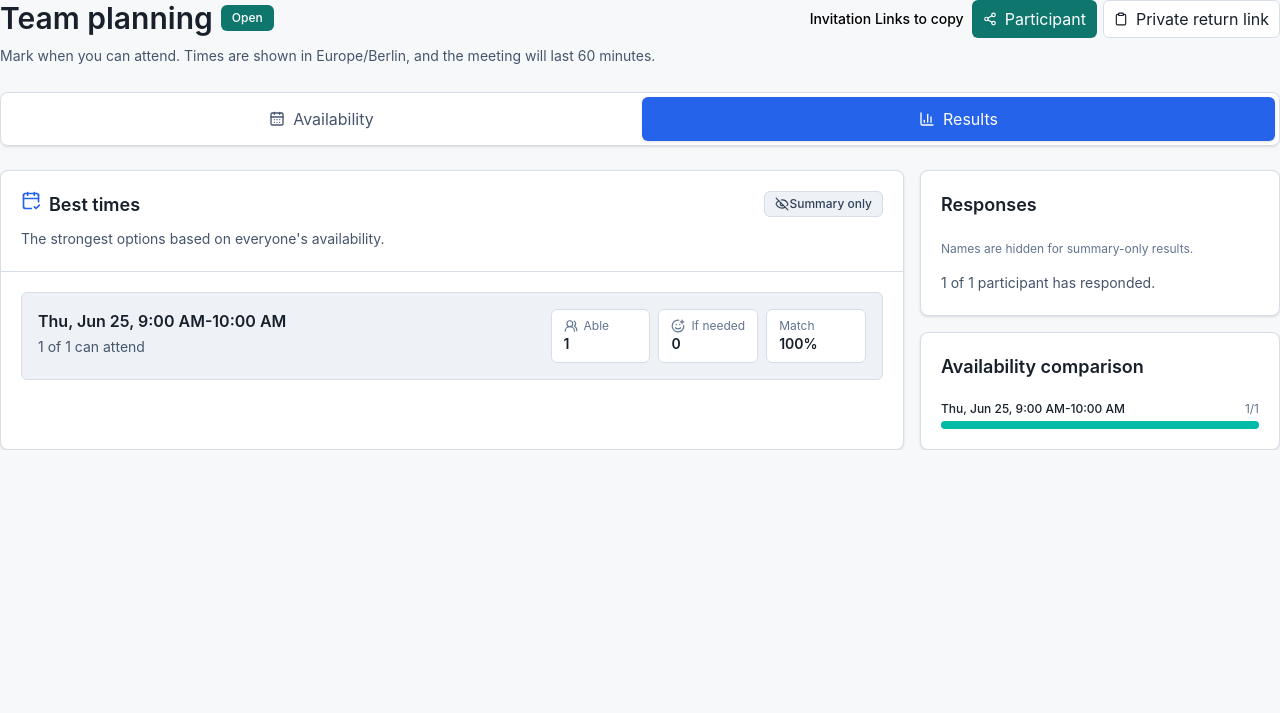
Test case: ParticipantAvailabilityPainter › defaults returning voters to results and keeps availability one switch away
Expected: the heading "Best times" is shown, x1=21 y1=191 x2=140 y2=215
Expected: the heading "availability calendar" is not shown
Click the tab "Availability".
click(322, 119)  # box x1=5 y1=97 x2=638 y2=141
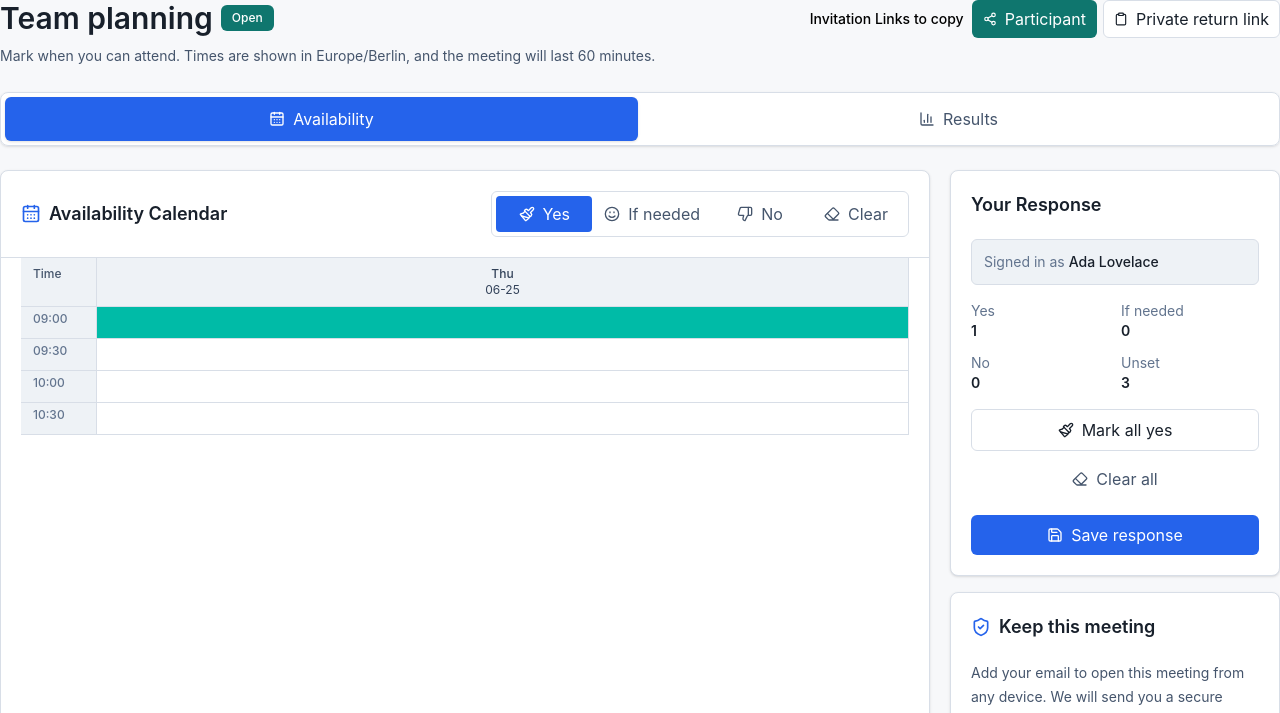
Expected: the button with aria-label "copy participant invite" is shown, x1=972 y1=0 x2=1097 y2=38
Result: the heading "Availability Calendar" is shown at x1=21 y1=200 x2=227 y2=228
Result: the text "Best times" is gone
